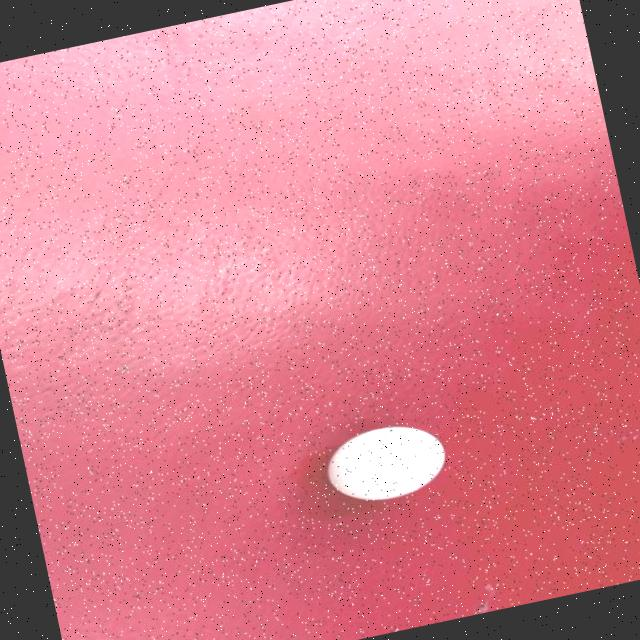ping-pong-ball: (316, 410, 455, 512)
